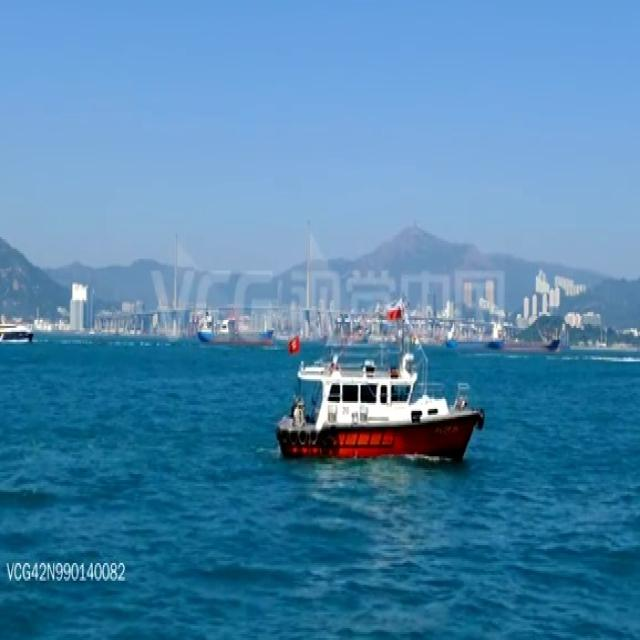houseboat: (276, 352, 481, 462), (0, 320, 34, 341)
